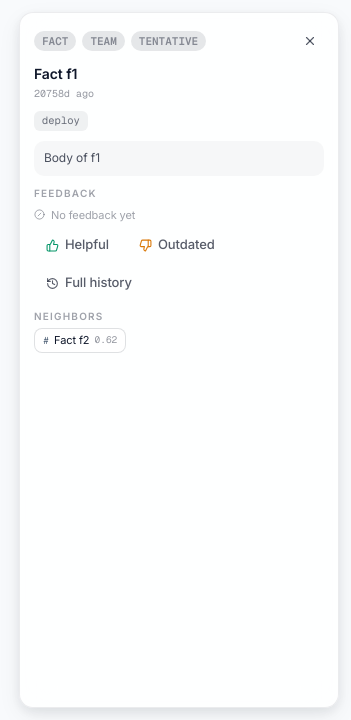
Test: InspectPanel › a slow full history does not appear under the node selected after it
The image size is (351, 720).
Click the button with test id "memory-inspect-full-history".
click(89, 283)  # box x1=34 y1=267 x2=144 y2=299
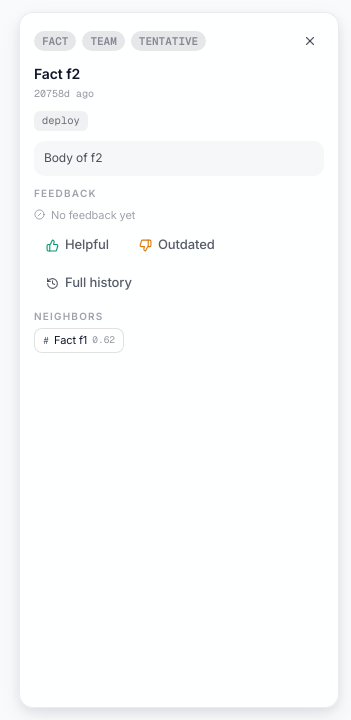
Expected: the text "Fact f2" is shown, x1=34 y1=65 x2=80 y2=82
